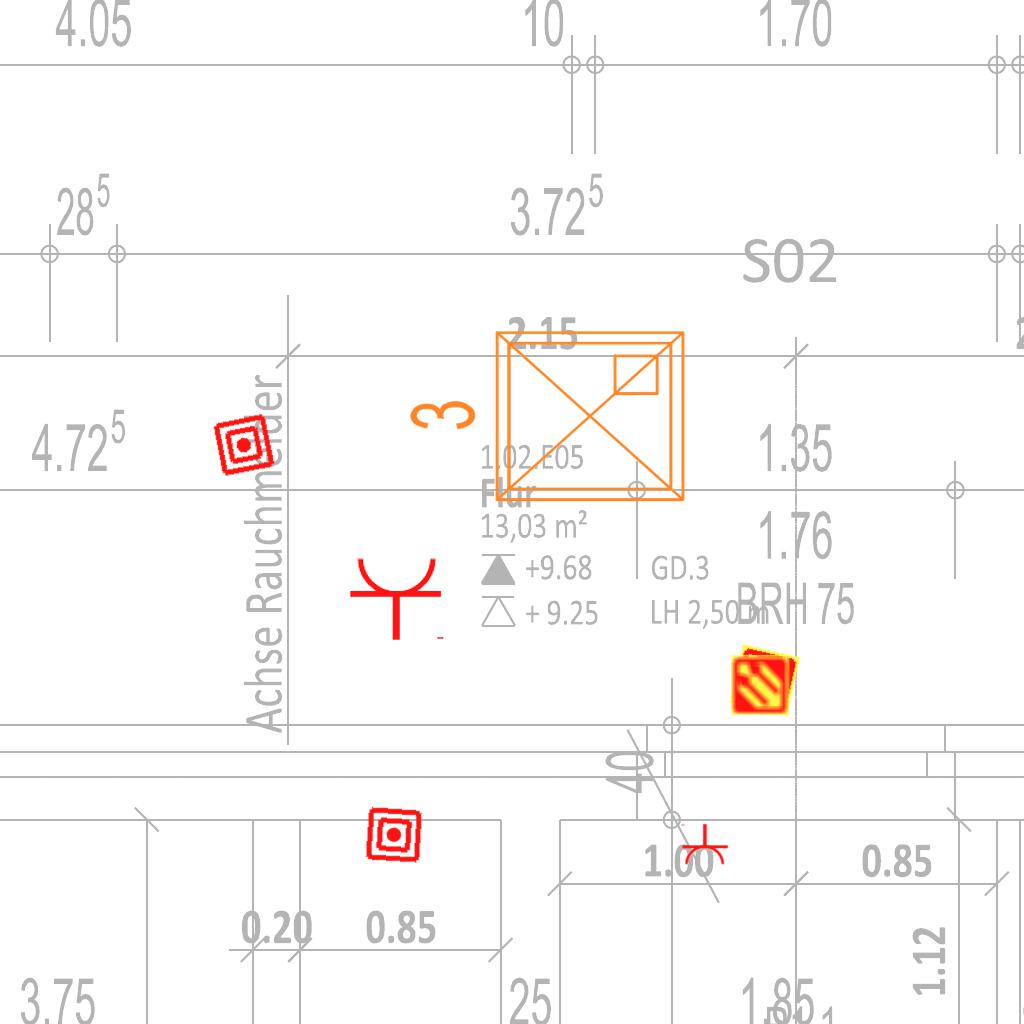ASR_Ansaugrauchmelder: (727, 642, 803, 718), (729, 654, 791, 716)
Einbaudownlights_LED_Konferenzraeume: (399, 316, 699, 524)
NAM-Nichtautomatischer_Melder: (211, 412, 277, 478), (364, 805, 424, 865)
Schukosteckdose_einfach: (348, 555, 448, 642), (679, 823, 729, 866)
